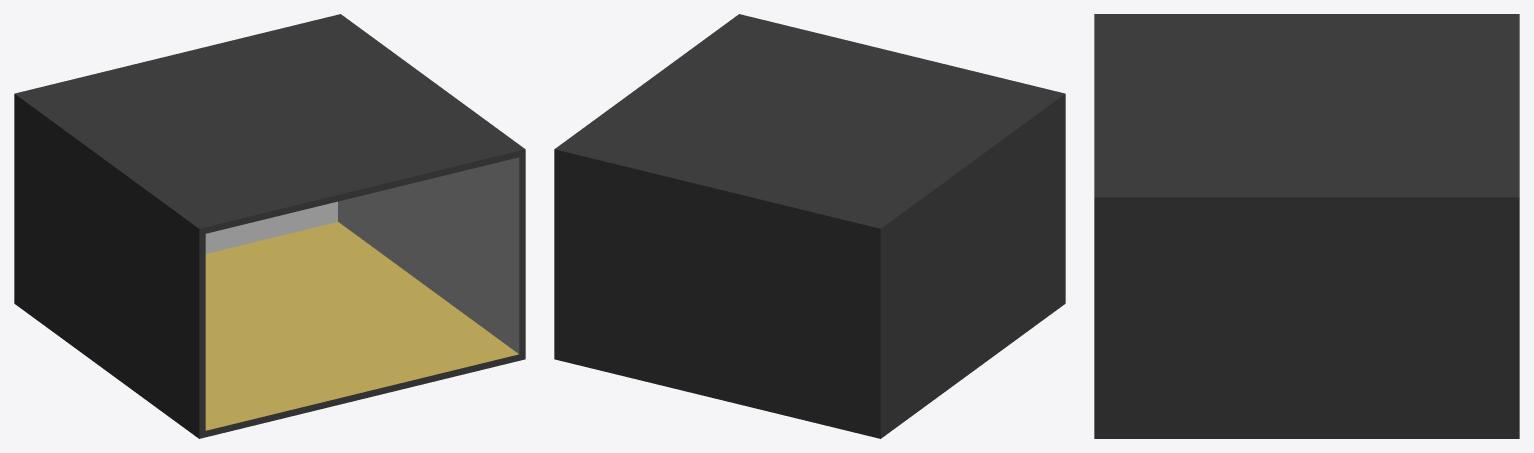
The model's file is Room.fbx.
3 renders of one model, left to right at view 1: azimuth 30°, elevation 25°; view 2: azimuth 150°, elevation 25°; view 3: azimuth 270°, elevation 25°, orthographic. The views are drawn at different scales.
Visible parts, largest first — view 1: Layer, Room; view 2: Layer; view 3: Layer.
Part boxes in pixels (x1=…): Layer: x1=14, y1=14, x2=525, y2=438; Room: x1=205, y1=157, x2=519, y2=430; Layer: x1=554, y1=14, x2=1065, y2=438; Layer: x1=1094, y1=14, x2=1519, y2=438.
Size of the model in its own units: 520 by 320 by 510.
